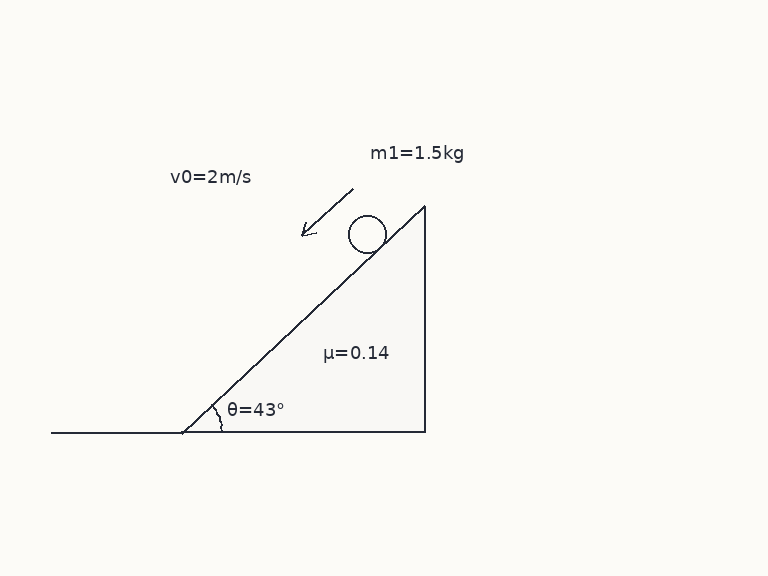ball: (346, 213, 388, 255)
ramp: (180, 204, 426, 434)
